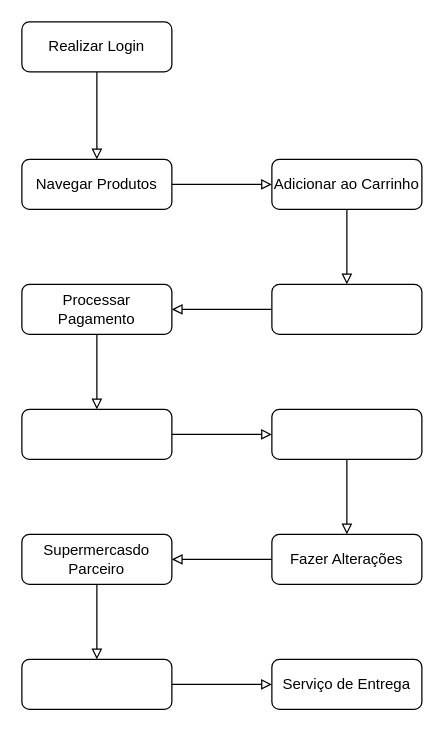
Image size: 444x731. Some labels were removed from this diagram. Here are the shapes that lost their labels. From the top down, the centre of each, then its label:
At [346,308]: "Finalizar Pedido".
At [96,433]: "Acompanhar Pedido".
At [346,433]: "Enrtar em Contato".
At [96,683]: "Preparar Pedido".
